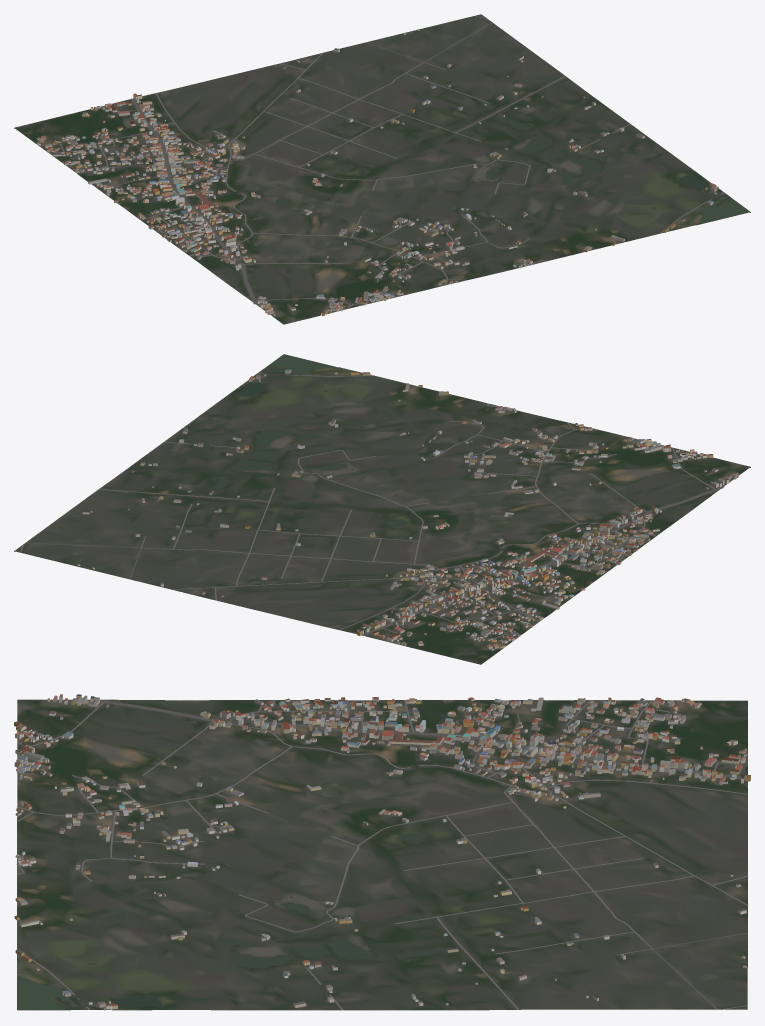
3 renders of one model, top to bottom at view 1: azimuth 30°, elevation 25°; view 2: azimuth 150°, elevation 25°; view 3: azimuth 270°, elevation 25°, orthographic. The views are drawn at different scales.
Visible parts, largest first — view 1: ground, buildings, roads, water; view 2: ground, buildings, roads, water; view 3: ground, buildings, roads, water.
Part boxes in pixels (x1,y1,x2,y2): ground: [14, 14, 750, 324]; buildings: [37, 29, 718, 315]; roads: [49, 15, 724, 308]; water: [80, 70, 749, 309]; ground: [14, 354, 750, 664]; buildings: [77, 369, 738, 650]; roads: [20, 373, 723, 639]; water: [133, 354, 722, 616]; ground: [17, 699, 747, 1010]; buildings: [14, 694, 750, 1010]; roads: [16, 699, 748, 1010]; water: [17, 700, 600, 1009].
Bounding box in the file's own units: 1408 × 25.7 × 1414.
